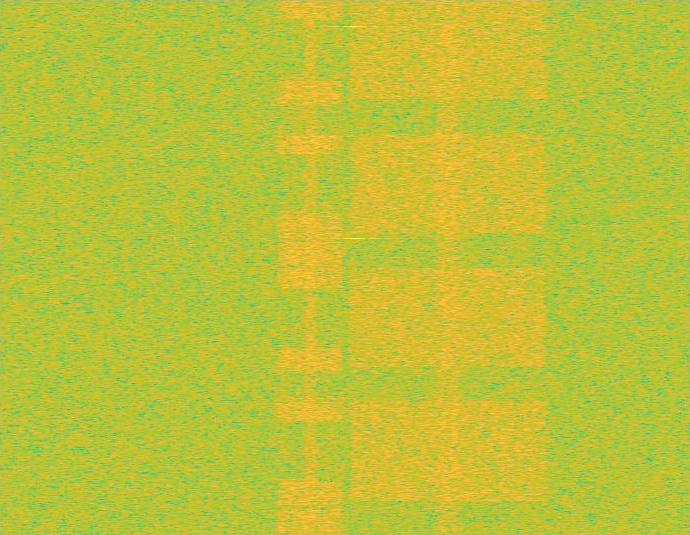5G: (345, 0, 552, 534)
DSSS: (435, 0, 462, 534), (303, 0, 318, 534)
LTE: (276, 0, 345, 534)
Radar: (348, 0, 361, 534)
